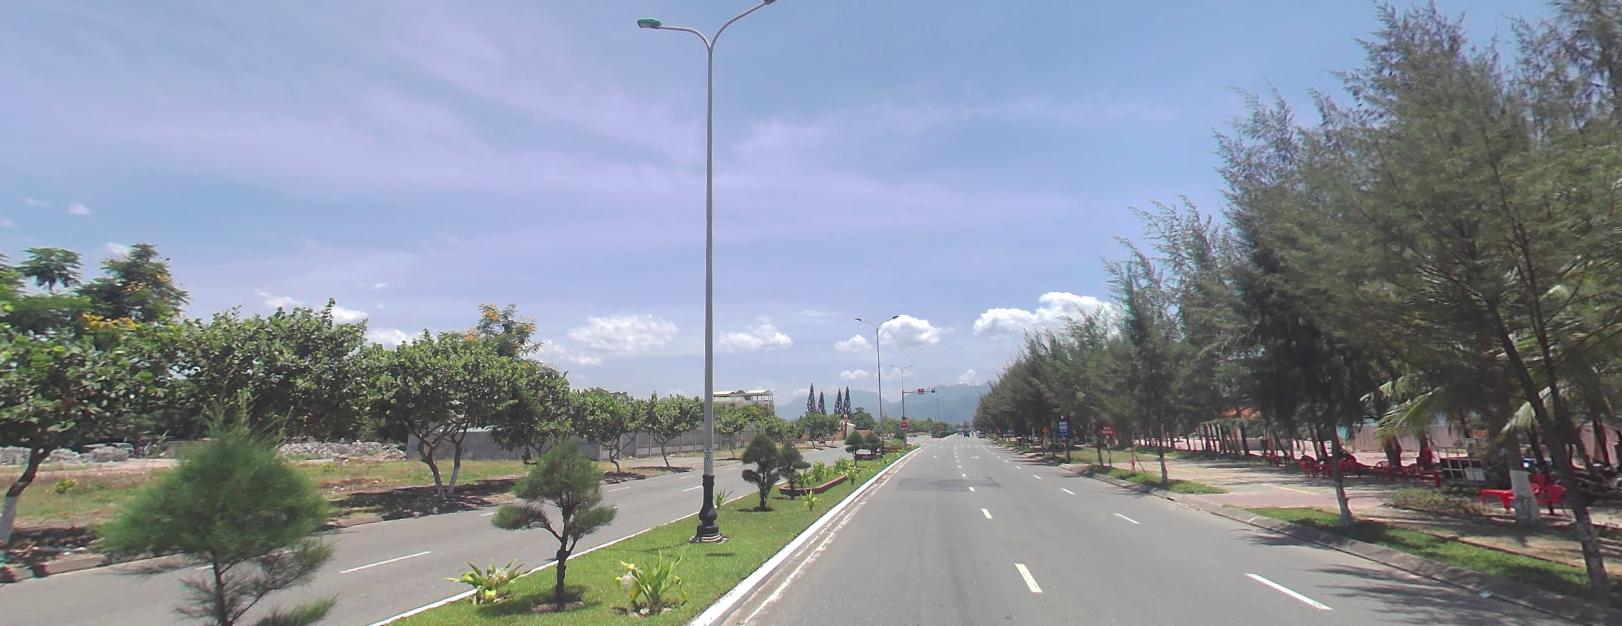Nguy hiem: (1041, 424, 1048, 429)
